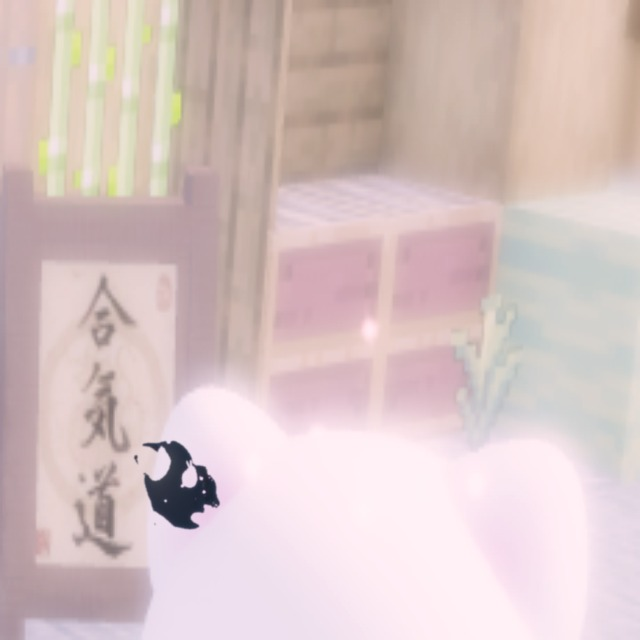urso_preto: (109, 407, 244, 561)
